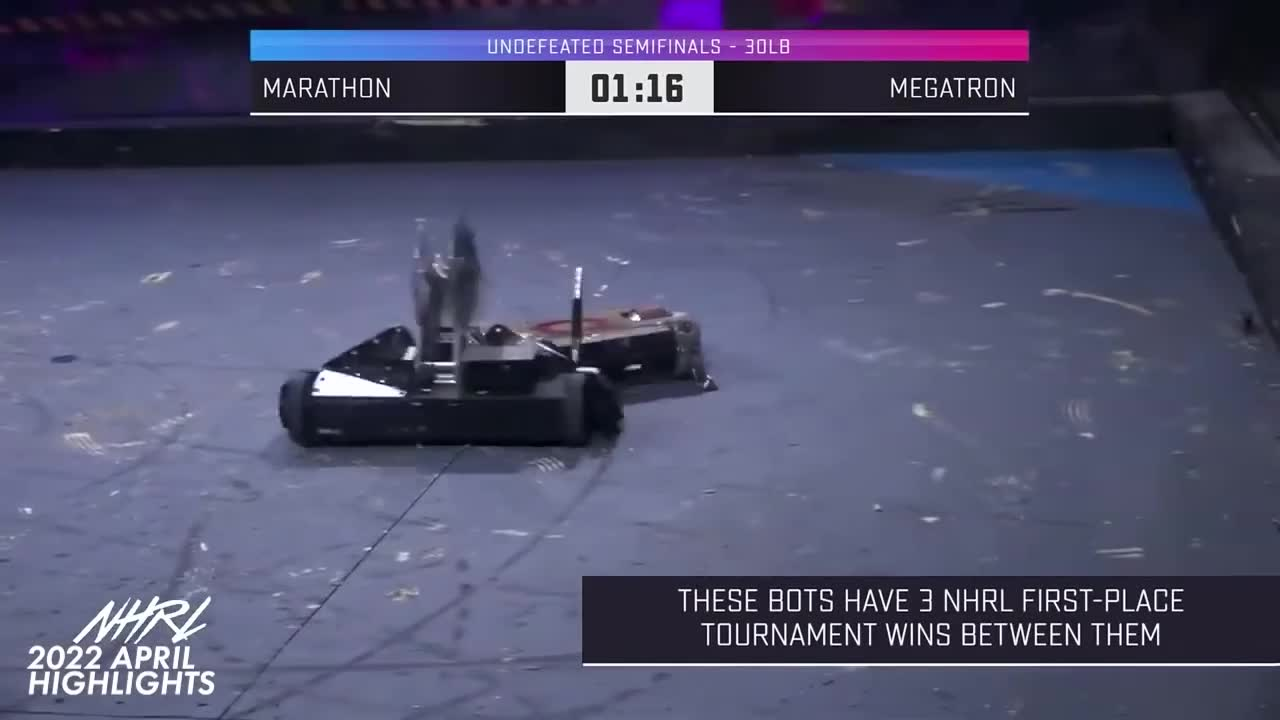combatbot: (278, 218, 625, 453), (519, 263, 707, 380)
